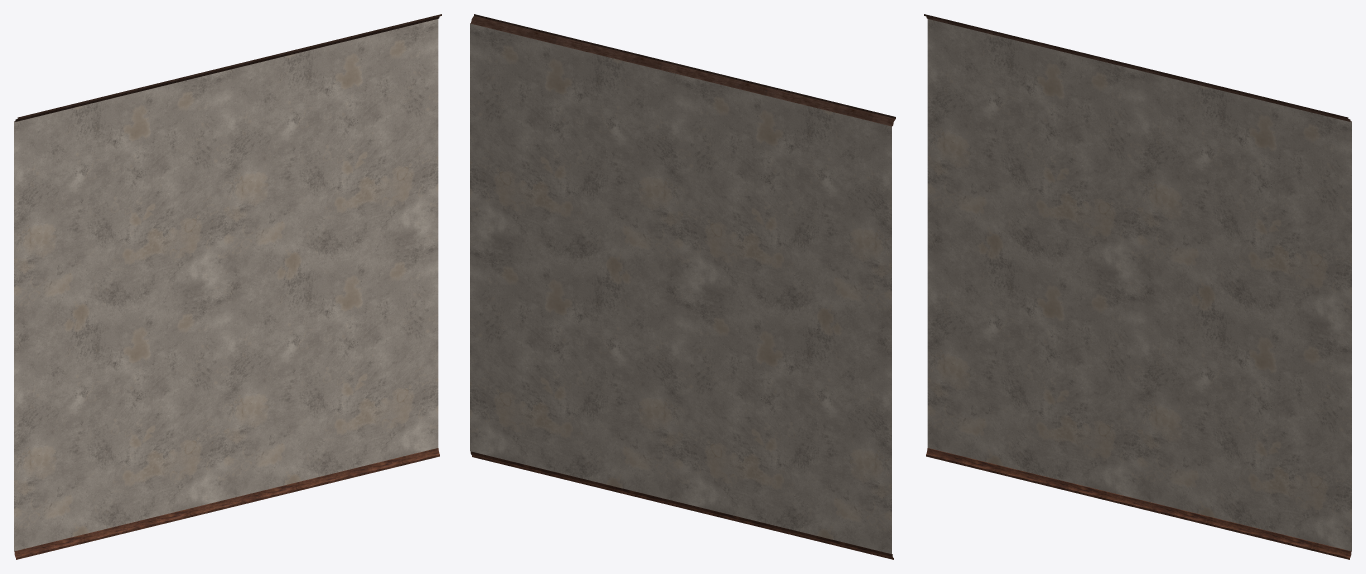
Rendered from SM_Wall.fbx.
3 views of the same model, side by side, from view 1: azimuth 30°, elevation 25°; view 2: azimuth 150°, elevation 25°; view 3: azimuth 330°, elevation 25° (orthographic).
Visible parts, largest first — view 1: SM_Wall; view 2: SM_Wall; view 3: SM_Wall.
Boxes of the visible parts, left/top/right/bottom form: SM_Wall: left=14, top=14, right=441, bottom=559; SM_Wall: left=470, top=14, right=895, bottom=559; SM_Wall: left=924, top=14, right=1351, bottom=559.
Size of the model in its own units: 400 by 400 by 6.22.
